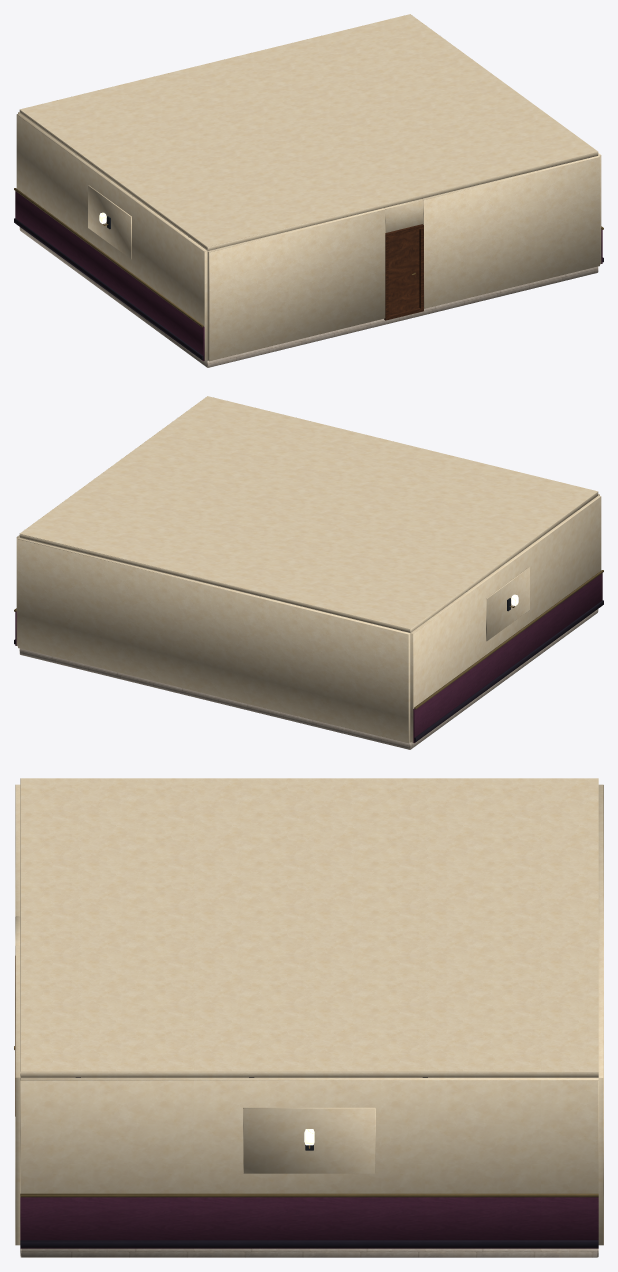
File: explore3d__kitchen.glb
3 views of the same model, one above another, from view 1: azimuth 30°, elevation 25°; view 2: azimuth 150°, elevation 25°; view 3: azimuth 270°, elevation 25° (orthographic). The views are drawn at different scales.
Parts seen in each view (by area): view 1: Rebuilt_kitchen; view 2: Rebuilt_kitchen; view 3: Rebuilt_kitchen.
Part boxes in pixels (bbox=[...]): Rebuilt_kitchen: bbox=[14, 14, 603, 367]; Rebuilt_kitchen: bbox=[14, 396, 603, 749]; Rebuilt_kitchen: bbox=[14, 778, 603, 1257].
Size of the model in its own units: 12.79 by 3.56 by 10.2.
Materials: 16 (14 with a texture image).
